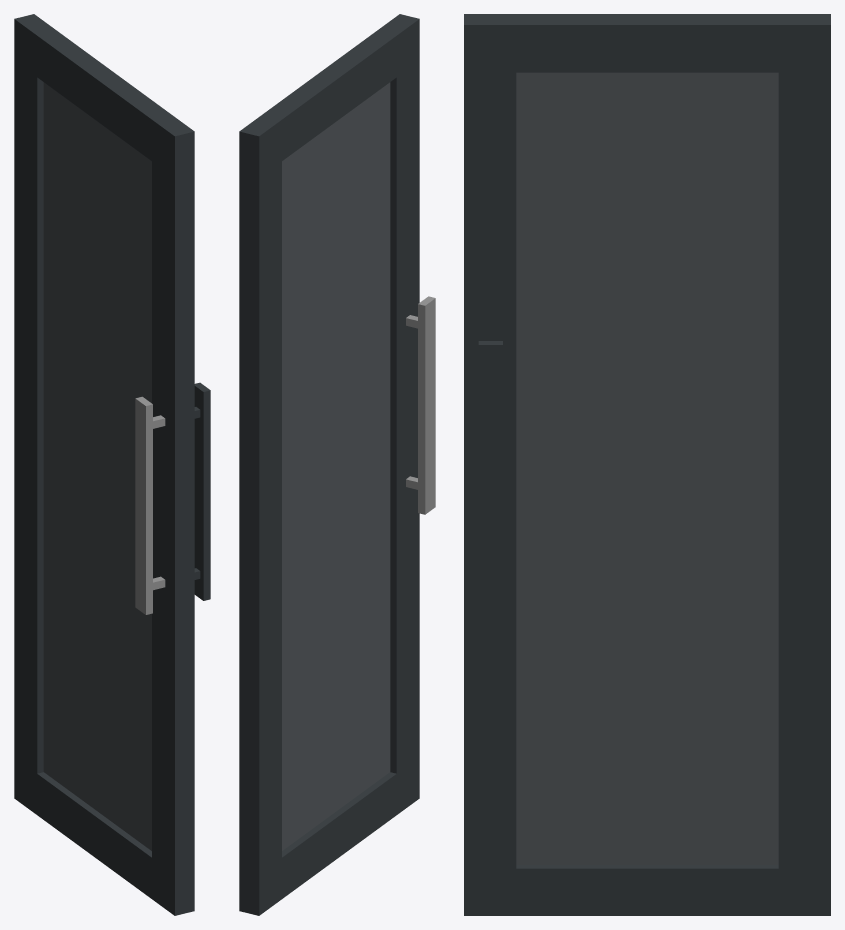
The model's file is SM_Buildings_Police_01_Door_L_02.fbx.
3 renders of one model, left to right at view 1: azimuth 30°, elevation 25°; view 2: azimuth 150°, elevation 25°; view 3: azimuth 270°, elevation 25°, orthographic. The views are drawn at different scales.
Parts seen in each view (by area): view 1: SM_Buildings_Police_01_Door_L_02; view 2: SM_Buildings_Police_01_Door_L_02; view 3: SM_Buildings_Police_01_Door_L_02.
Part boxes in pixels (x1,y1,x2,y2): SM_Buildings_Police_01_Door_L_02: (14,14,210,915); SM_Buildings_Police_01_Door_L_02: (239,14,435,915); SM_Buildings_Police_01_Door_L_02: (464,14,830,915).
Bounding box in the file's own units: 0.2205 × 2.53 × 0.9458.
